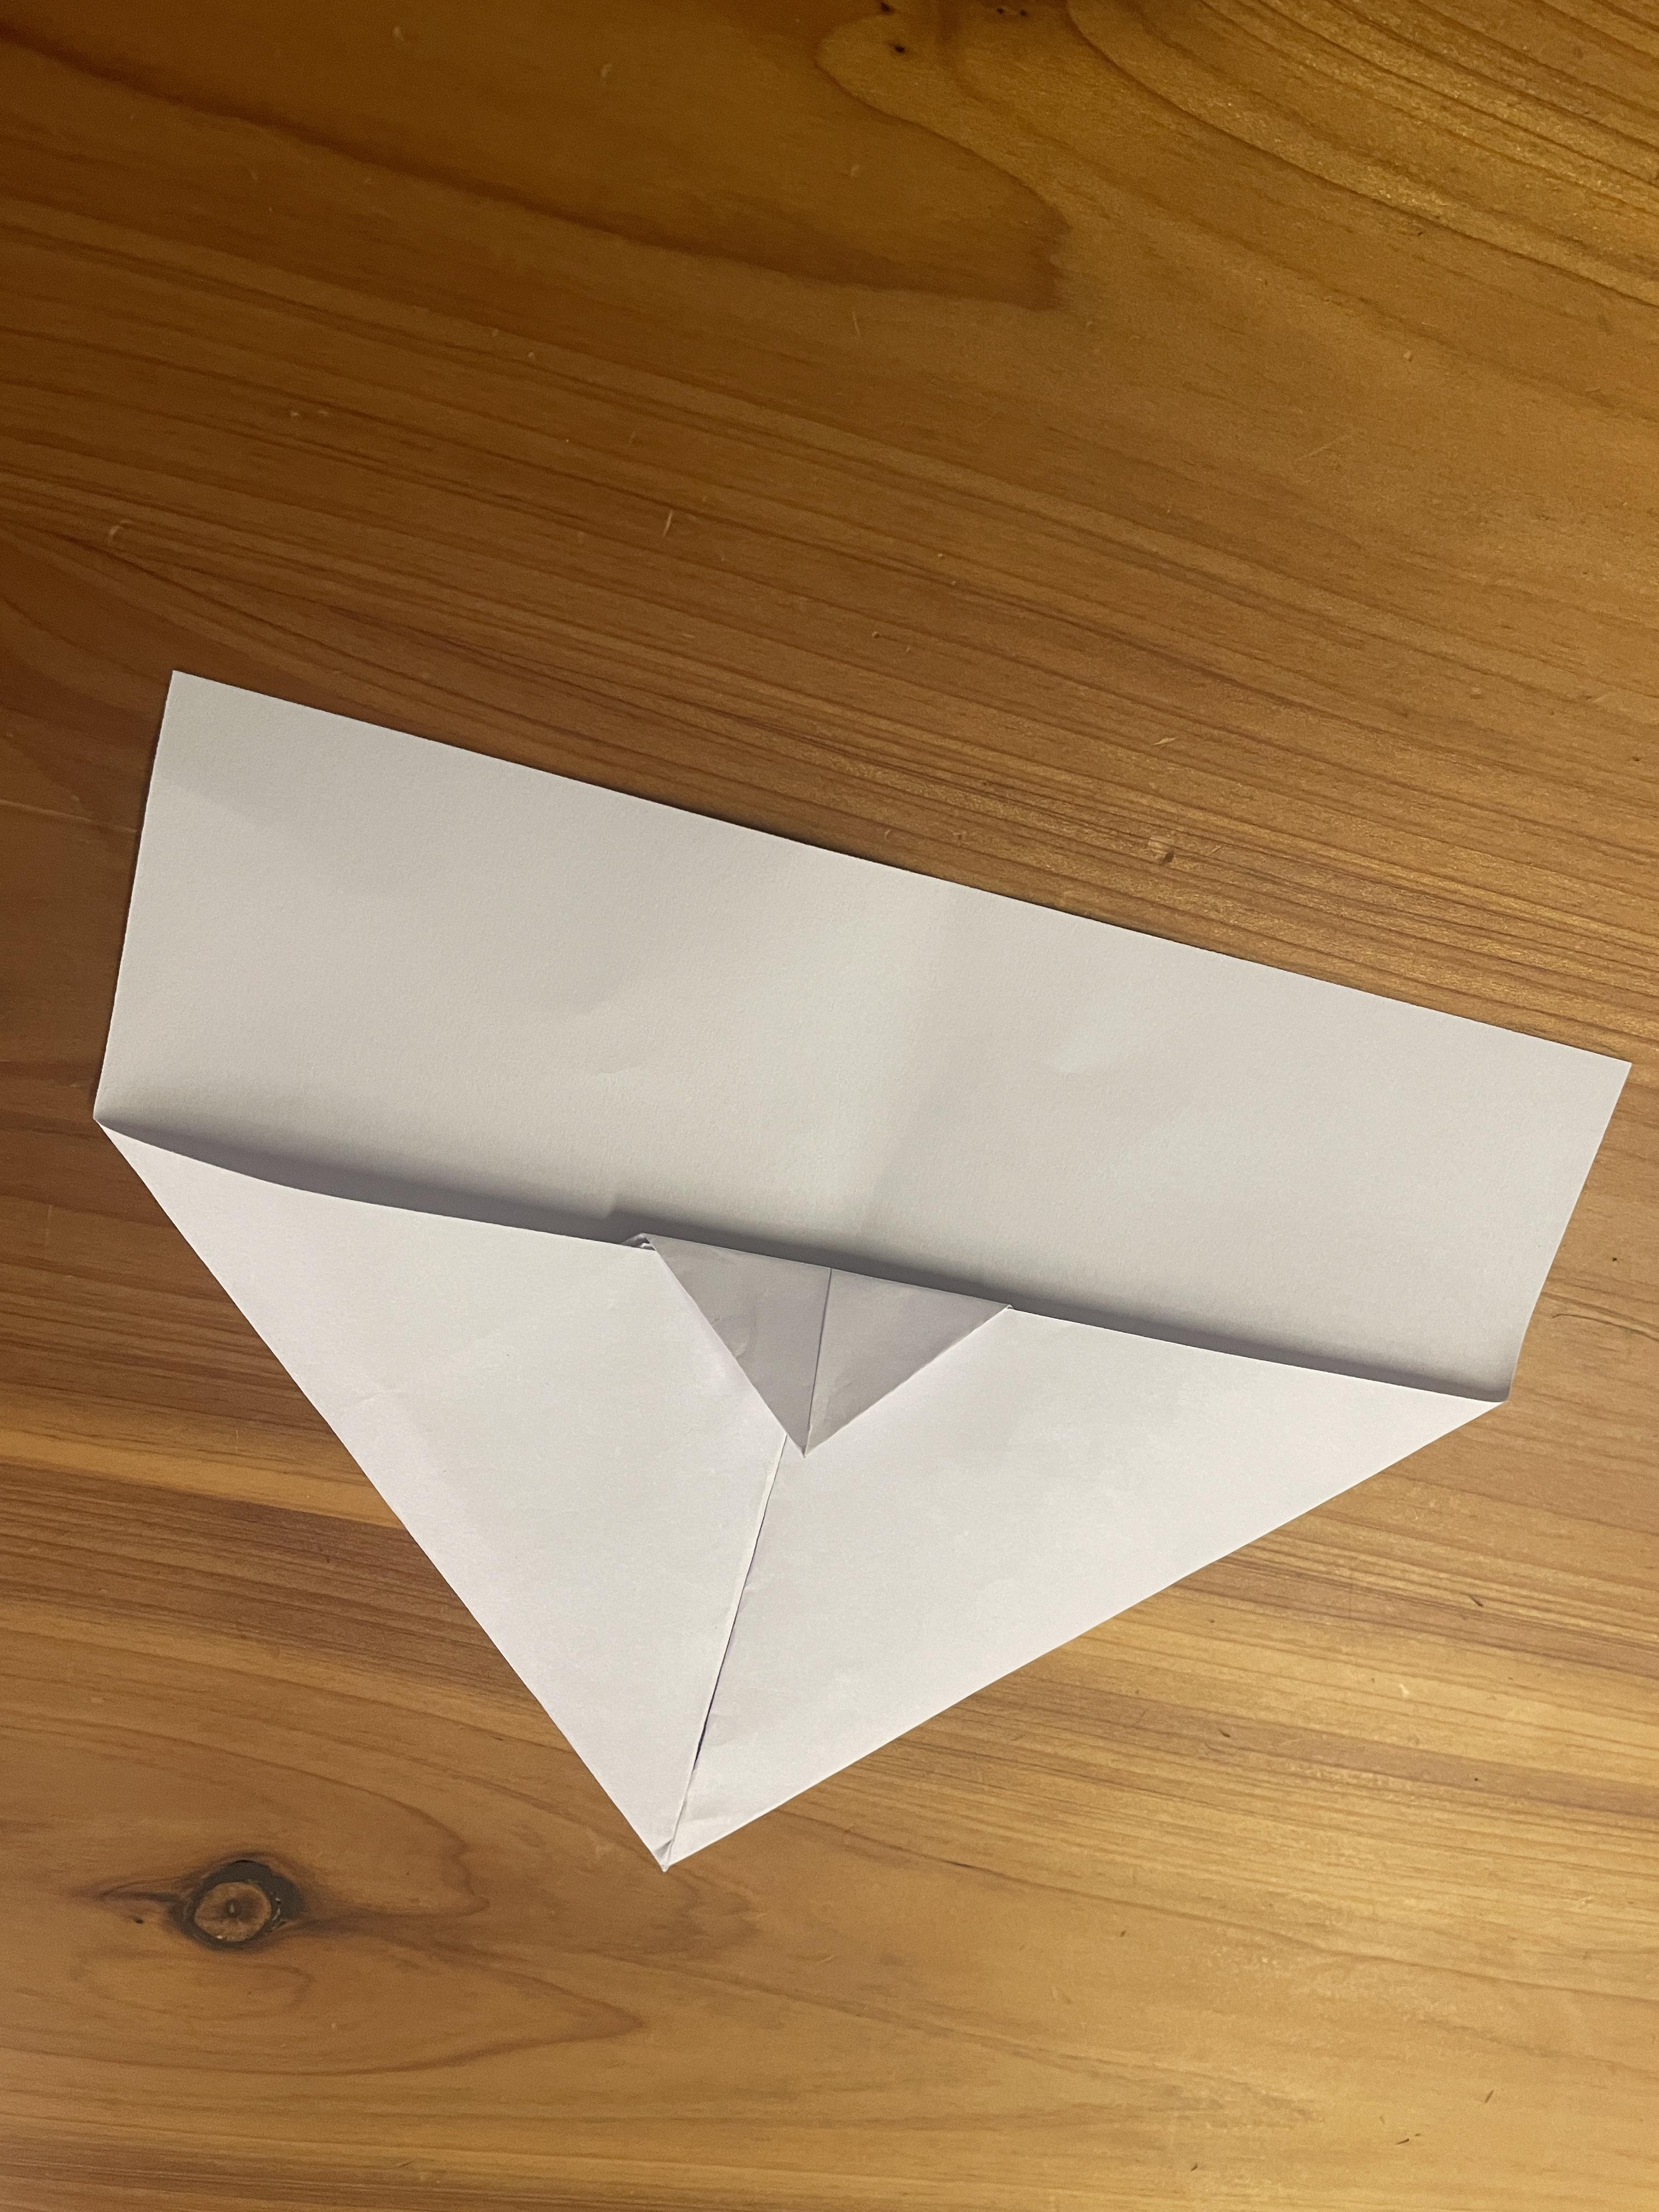shape_2: (33, 462, 1659, 2095)
